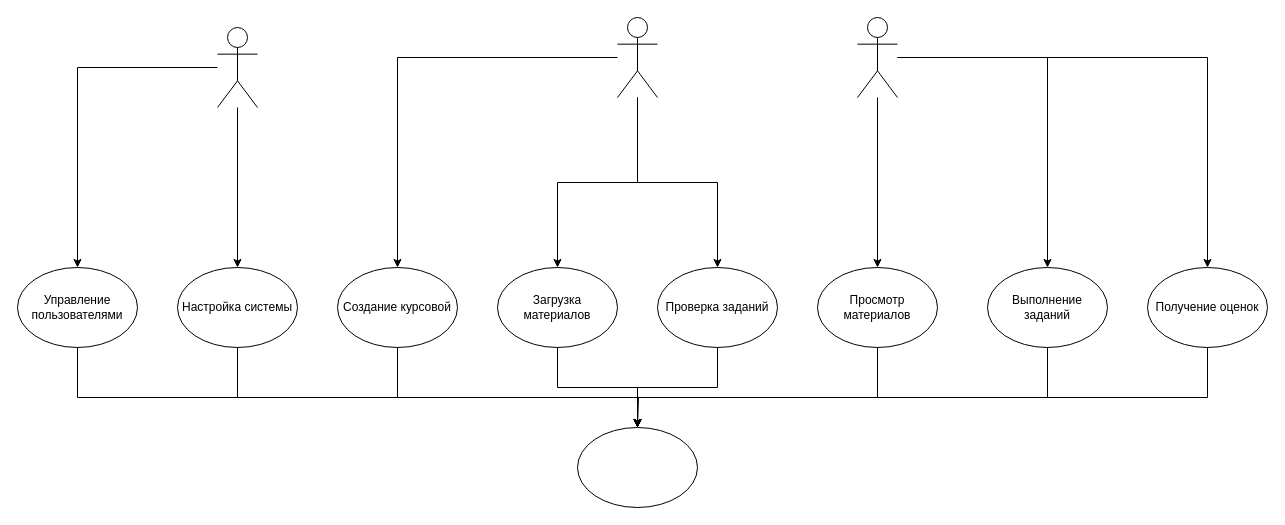
Some shapes in this 1285 by 525 pixel diagram are drawn without their labels. Each missing label, with the centre of its shape:
Администратор: the point at 237,67
Преподаватель: the point at 637,57
Программное средство: the point at 637,467
Студент: the point at 877,57
